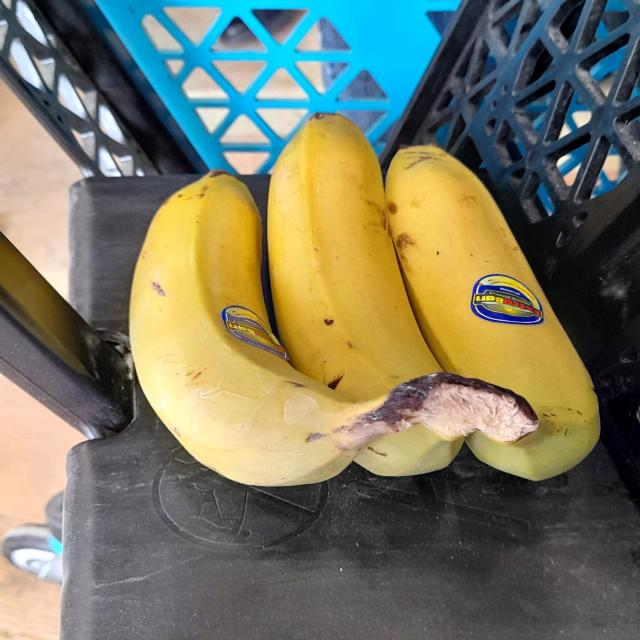banana: (129, 88, 612, 494)
